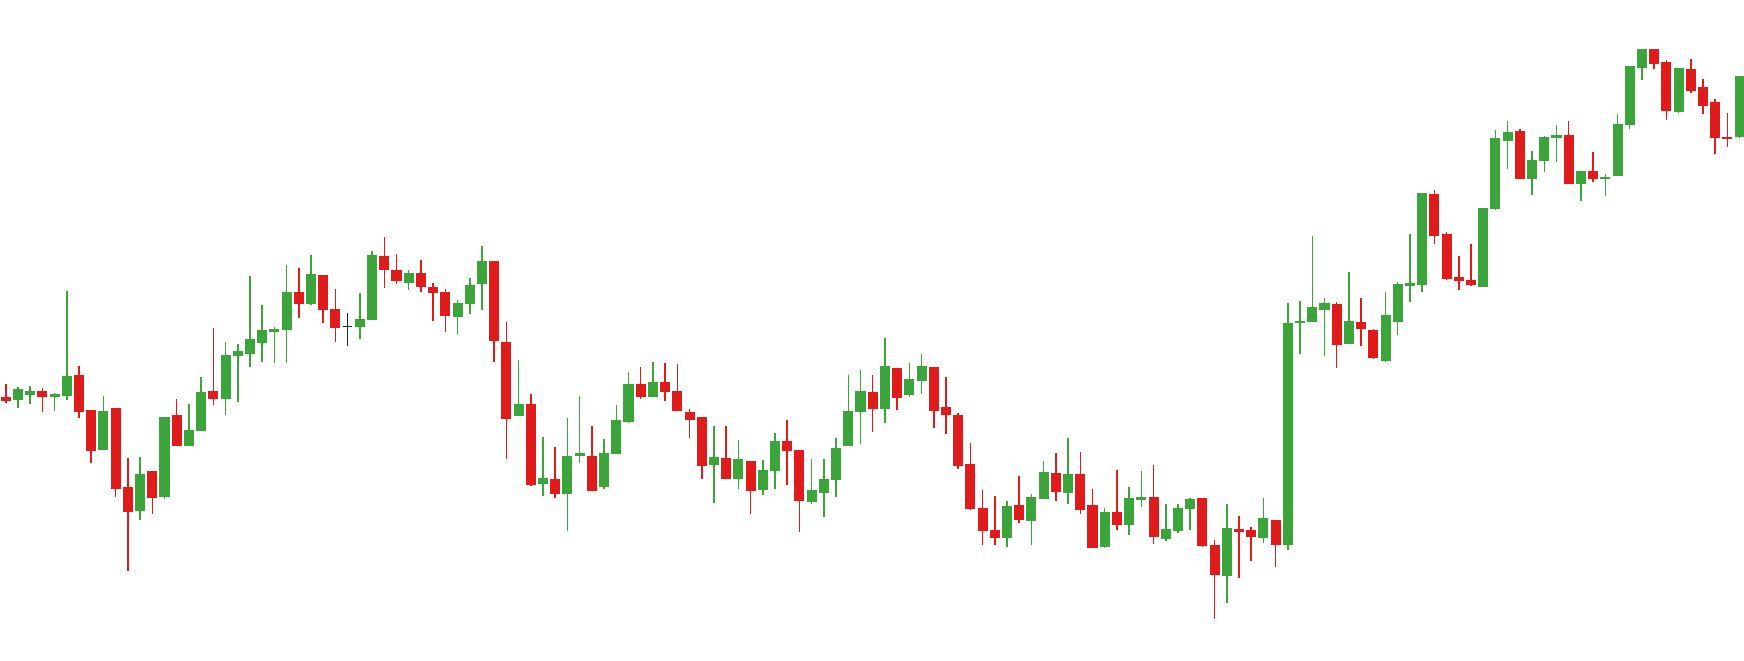buy: (1086, 499, 1233, 615), (741, 452, 817, 533)
sell: (304, 237, 390, 314)
